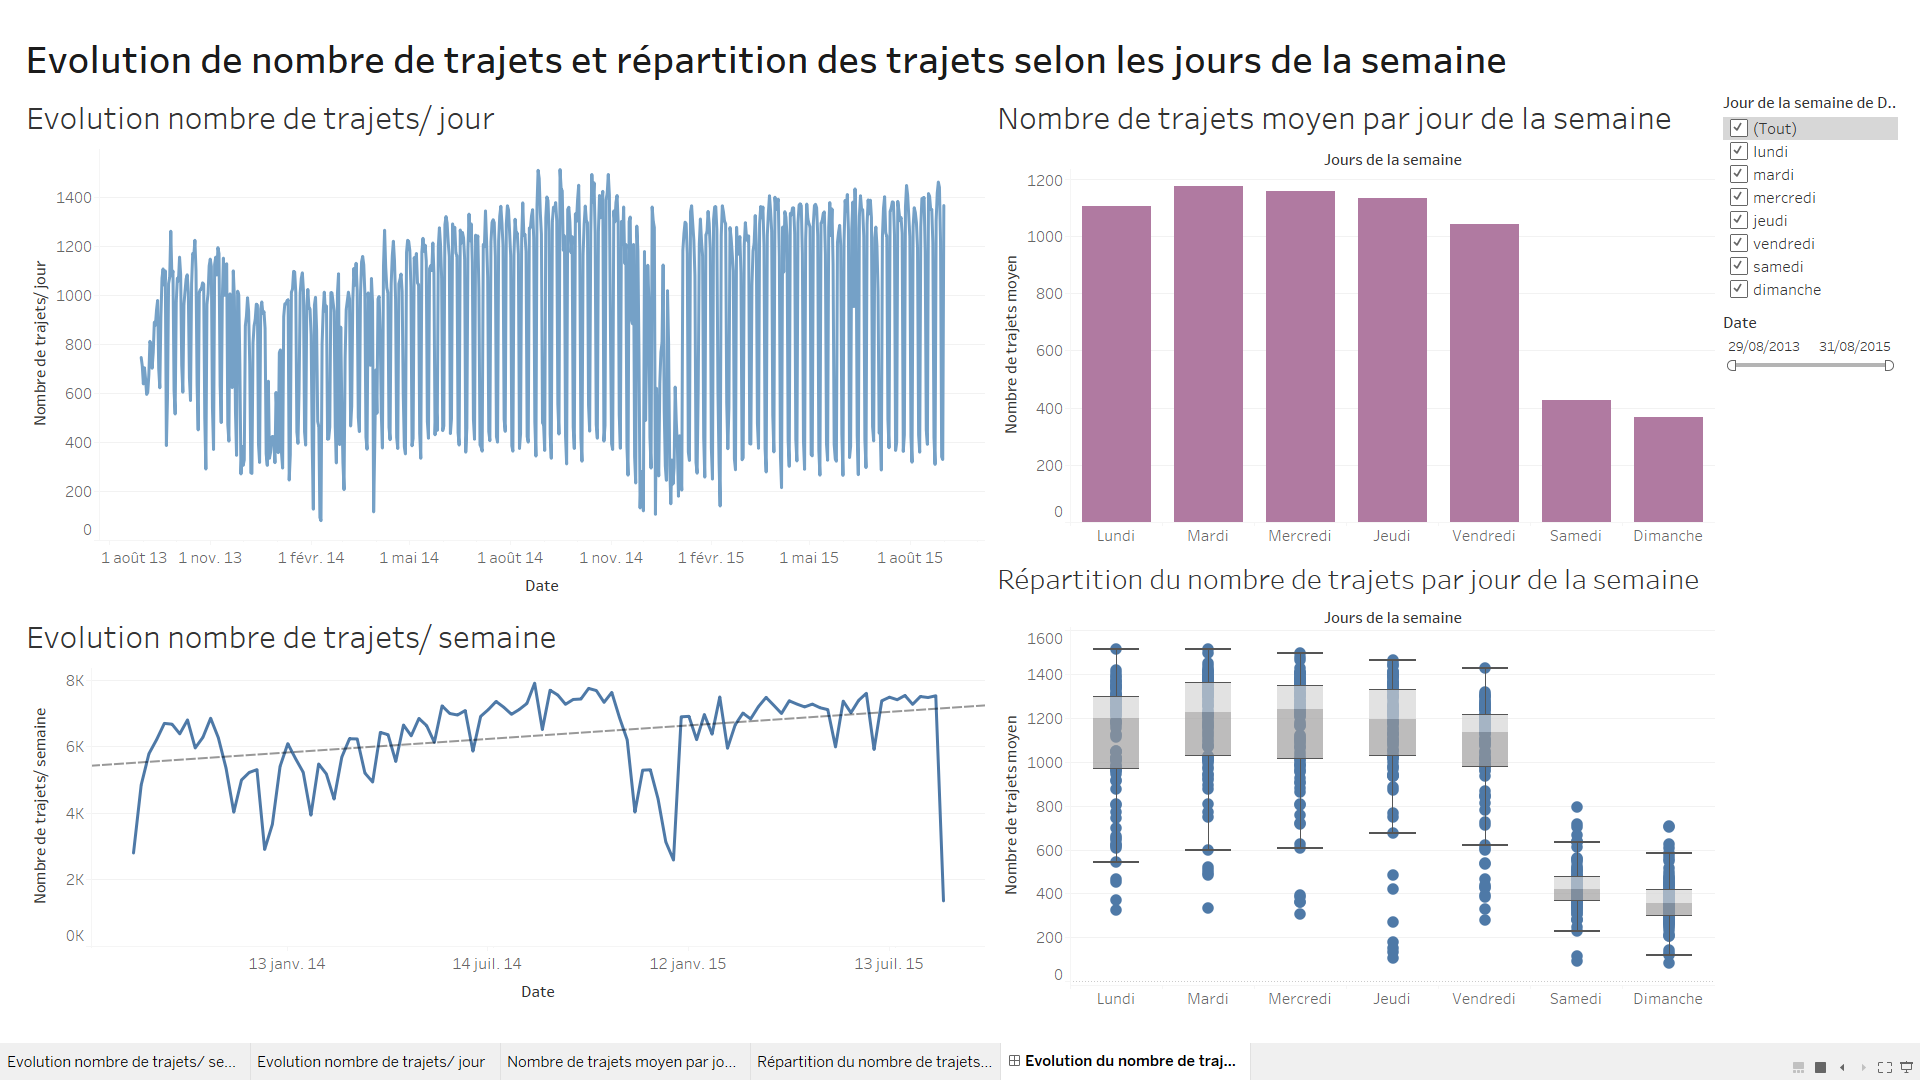

The dashboard page shown, as its layout file describes it:
{"tool":"tableau","page":{"name":"Evolution du nombre de trajets et répartition des trajets selon les jours de la semaine","canvas":[1900,1000],"ordinal":0},"visuals":[{"type":"title","box":[8,8,1884,59]},{"type":"worksheet","title":"Evolution nombre de trajets/ jour","mark":"Line","rows":["id"],"cols":["Calculation_1006836019017273345"],"box":[8,67,971,519]},{"type":"worksheet","title":"Nombre de trajets moyen par jour de la semaine ","mark":"Bar","rows":["Calculation_1006836019083304971"],"cols":["Calculation_1006836019085680653"],"box":[979,67,730,462.5]},{"type":"filter","title":"Evolution nombre de trajets/ semaine","param":"[federated.1pm1bb40dlc9df1fdqk2f18jr6kl].[wd:Calculation_1006836019017273345:ok]","box":[1709,67,183,220]},{"type":"filter","title":"Evolution nombre de trajets/ semaine","param":"[federated.1pm1bb40dlc9df1fdqk2f18jr6kl].[none:Calculation_1006836019017273345:q","box":[1709,287,183,73]},{"type":"worksheet","title":"Répartition du nombre de trajets par jour de la semaine","mark":"Circle","rows":["Calculation_1006836019083304971"],"cols":["Calculation_1006836019085680653"],"box":[979,529.5,730,462.5]},{"type":"worksheet","title":"Evolution nombre de trajets/ semaine","mark":"Automatic","rows":["id"],"cols":["Calculation_1006836019017273345"],"box":[8,586,971,406]}]}

Visuals, with their boxes on the page's 1900x1000 design canvas (x1, y1, x2, y2). These are canvas units, not pixel positions in the 1920x1080 screenshot, which may show the page scaled, cropped or inside an application window:
title: 8 8 1892 67
"Evolution nombre de trajets/ jour" worksheet (Line marks): 8 67 979 586
"Nombre de trajets moyen par jour de la semaine " worksheet (Bar marks): 979 67 1709 530
"Evolution nombre de trajets/ semaine" filter: 1709 67 1892 287
"Evolution nombre de trajets/ semaine" filter: 1709 287 1892 360
"Répartition du nombre de trajets par jour de la semaine" worksheet (Circle marks): 979 530 1709 992
"Evolution nombre de trajets/ semaine" worksheet: 8 586 979 992
